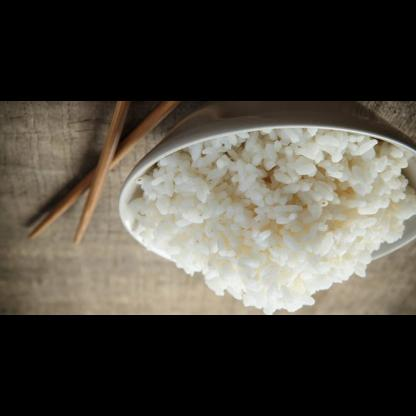white rice: (127, 129, 415, 317)
